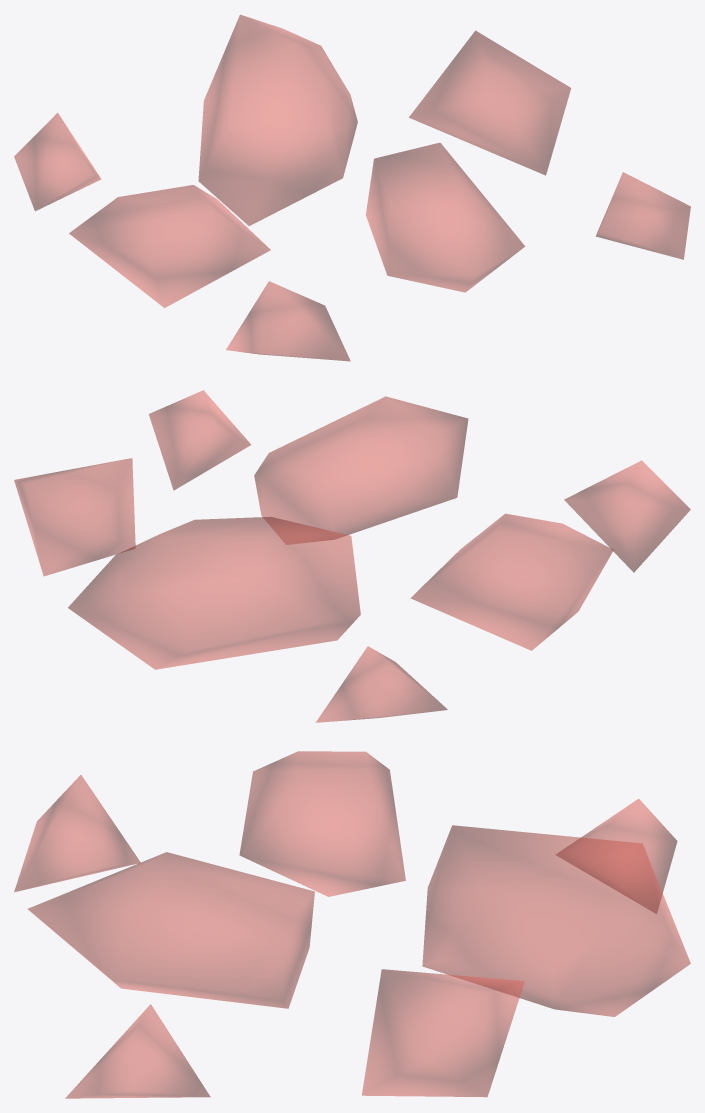
The model's file is SmallCrystals1_Bogdan.fbx.
3 renders of one model, top to bottom at view 1: azimuth 30°, elevation 25°; view 2: azimuth 150°, elevation 25°; view 3: azimuth 270°, elevation 25°, orthographic. The views are drawn at different scales.
Parts seen in each view (by area): view 1: SmallCrystals1; view 2: SmallCrystals1; view 3: SmallCrystals1.
Boxes of the visible parts, x1=… form: SmallCrystals1: x1=14, y1=14, x2=690, y2=361; SmallCrystals1: x1=14, y1=390, x2=690, y2=722; SmallCrystals1: x1=14, y1=751, x2=690, y2=1098.
Size of the model in its own units: 68.8 by 18.61 by 65.6.
